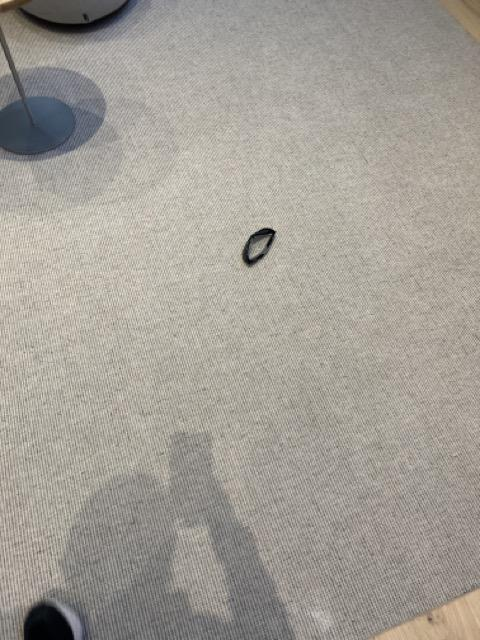Sunglasses: (243, 227, 276, 268)
